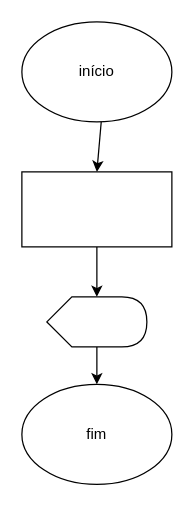
Some shapes in this 194 by 506 pixel diagram are drawn without their labels. Here are the shapes that lost their labels. From the top down, the centre of each, then its label:
[96,209]: v[] <- {45,-89,32,-12,33,}
[96,321]: v[0], v[4]
